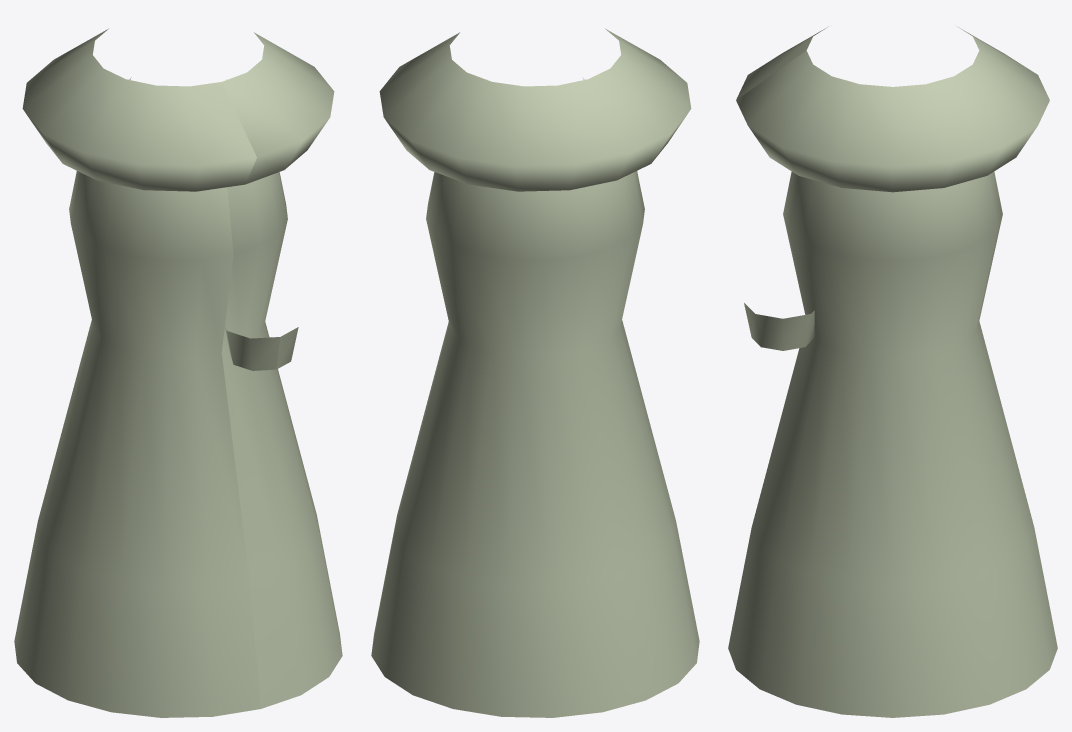
File: grove-keeper-hero.glb
3 renders of one model, left to right at view 1: azimuth 30°, elevation 25°; view 2: azimuth 150°, elevation 25°; view 3: azimuth 270°, elevation 25°, orthographic.
Visible parts, largest first — view 1: GroveKeeperHero; view 2: GroveKeeperHero; view 3: GroveKeeperHero.
Boxes of the visible parts, x1,y1,x2,y2 form: GroveKeeperHero: [14, 28, 342, 717]; GroveKeeperHero: [371, 28, 699, 717]; GroveKeeperHero: [728, 26, 1057, 717].
Size of the model in its own units: 0.8399 by 1.68 by 0.8399.
